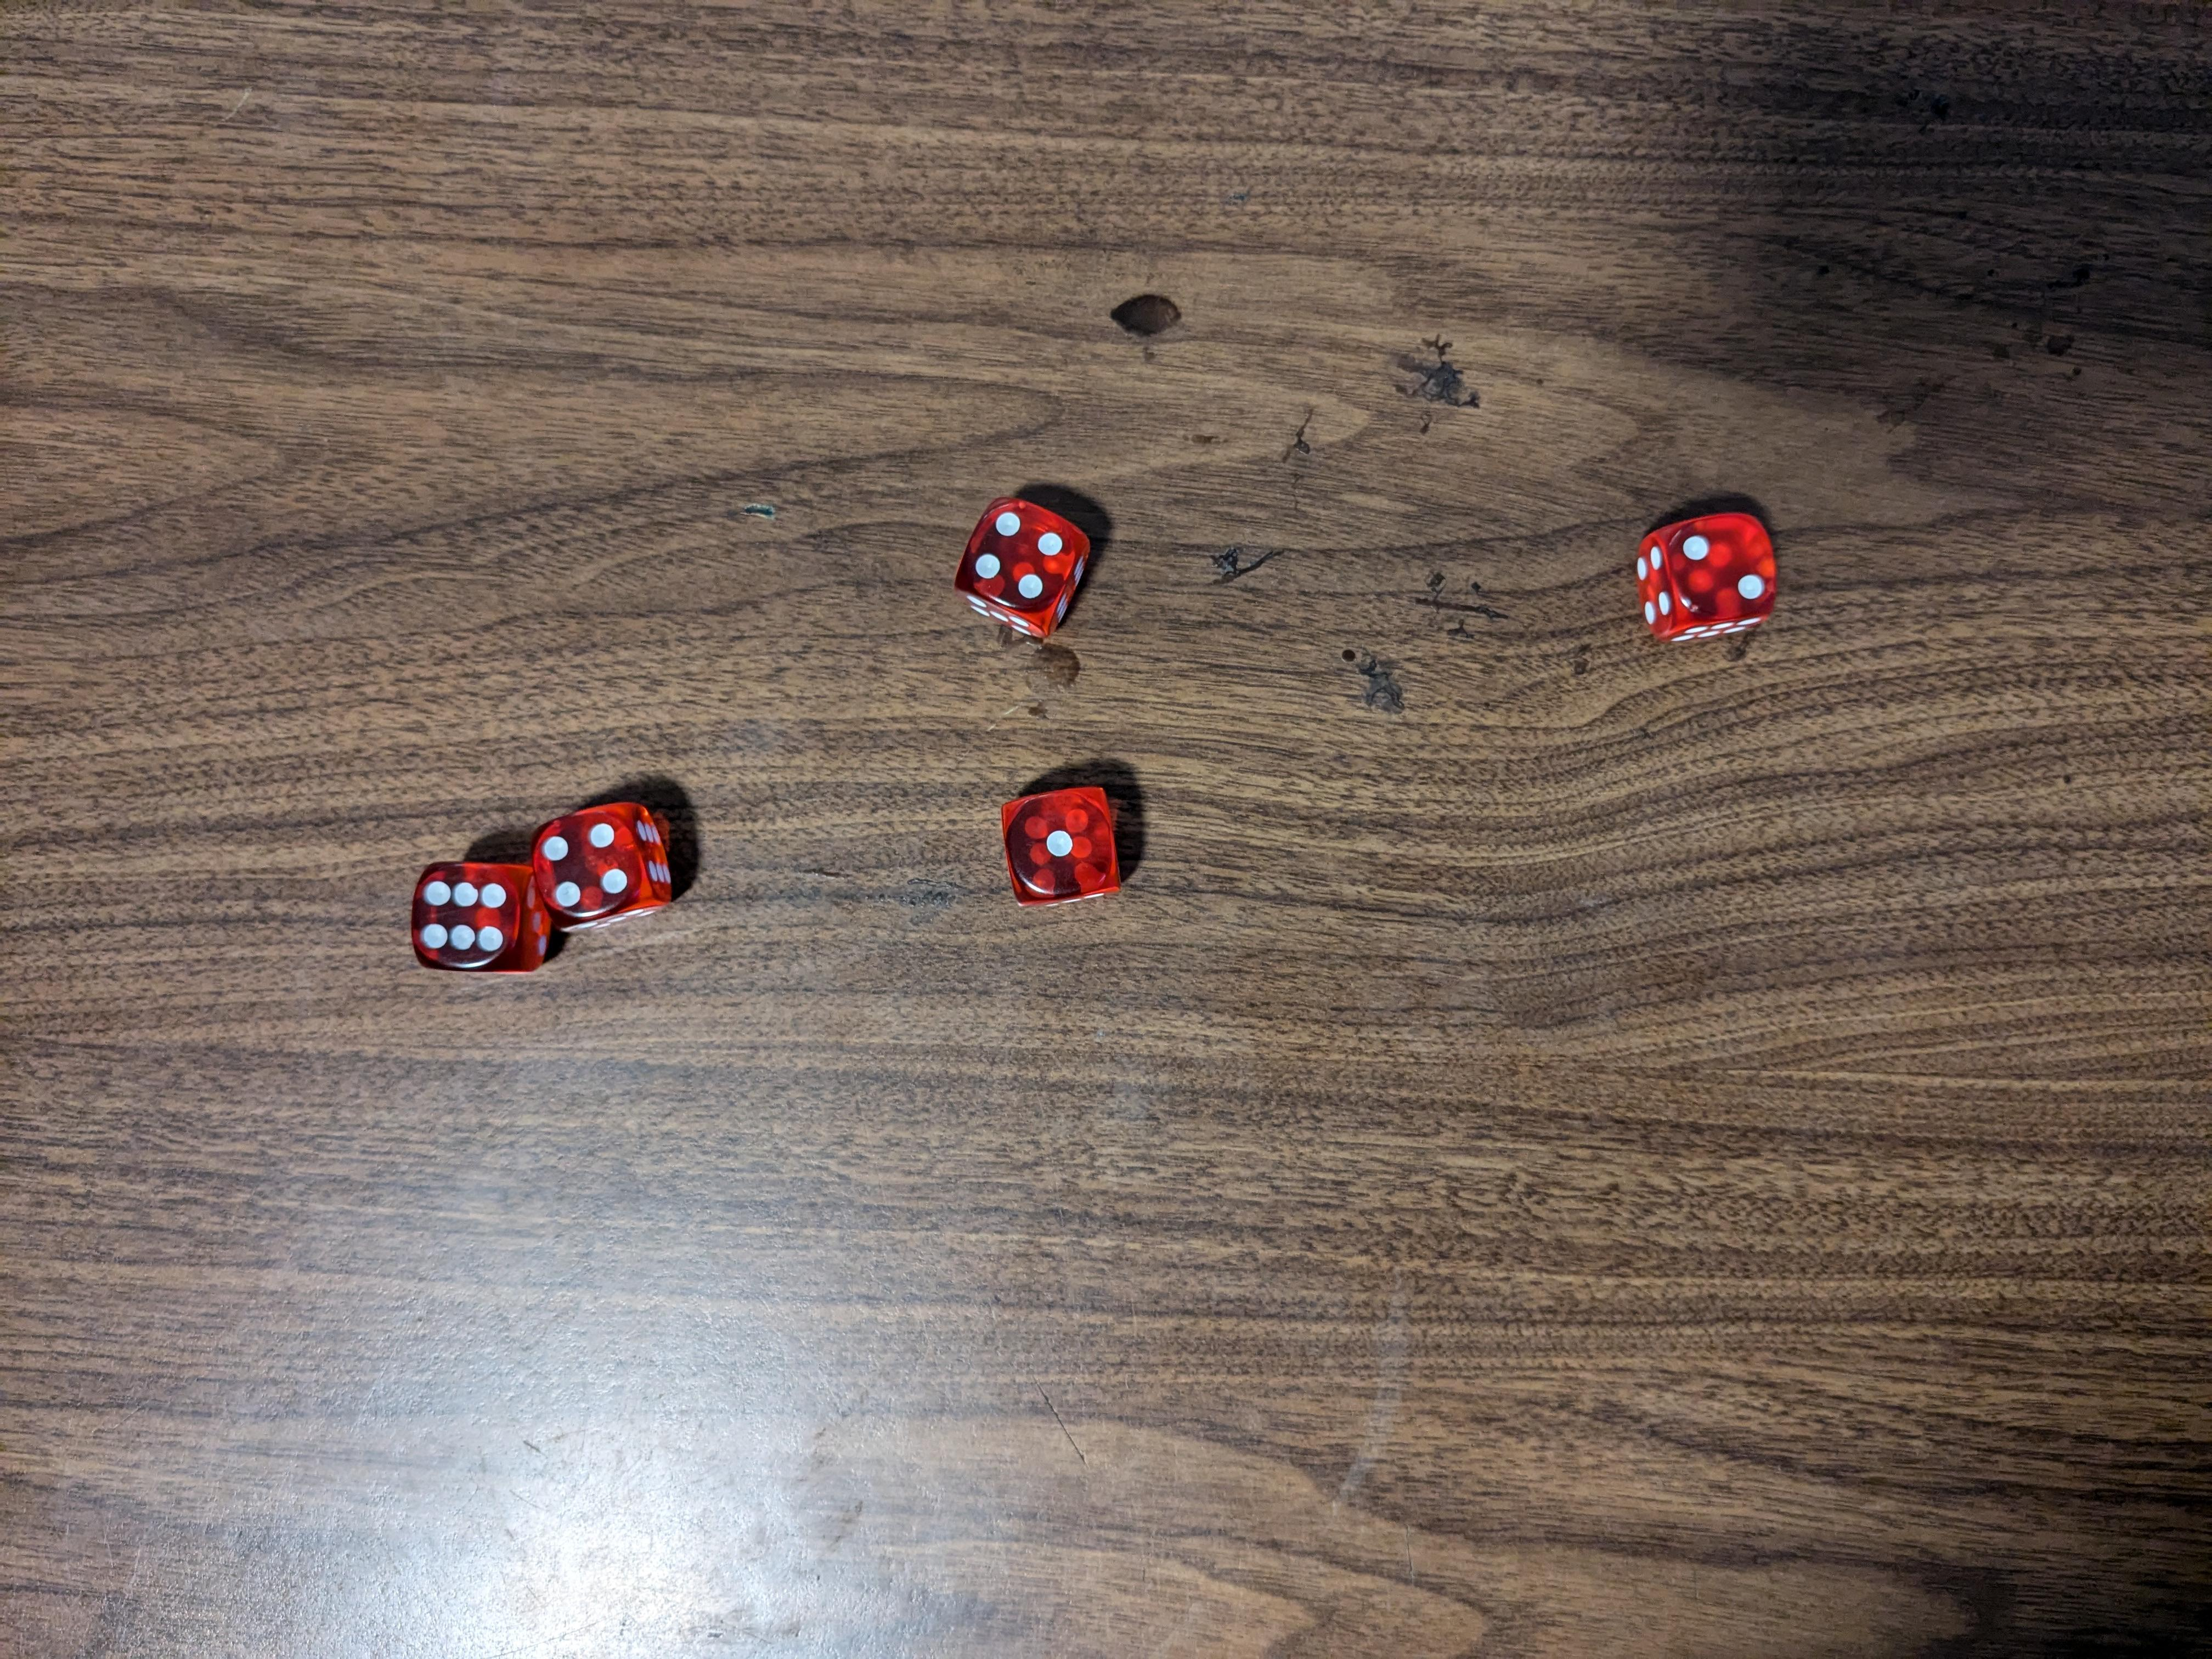four: (949, 493, 1099, 652), (531, 802, 678, 932)
one: (993, 784, 1134, 913)
six: (411, 859, 552, 979)
two: (1630, 509, 1785, 648)
